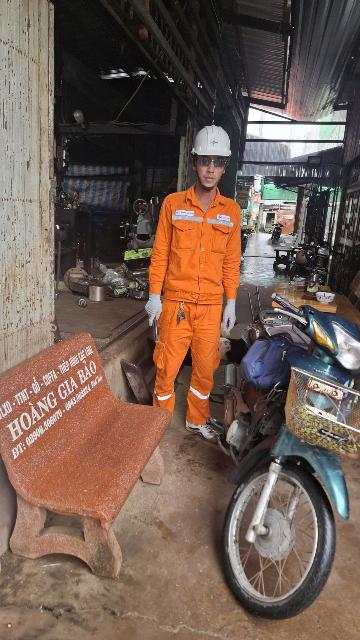gloves: (208, 299, 238, 334), (143, 293, 171, 328)
helmet: (178, 114, 244, 171)
shoes: (182, 412, 232, 450)
